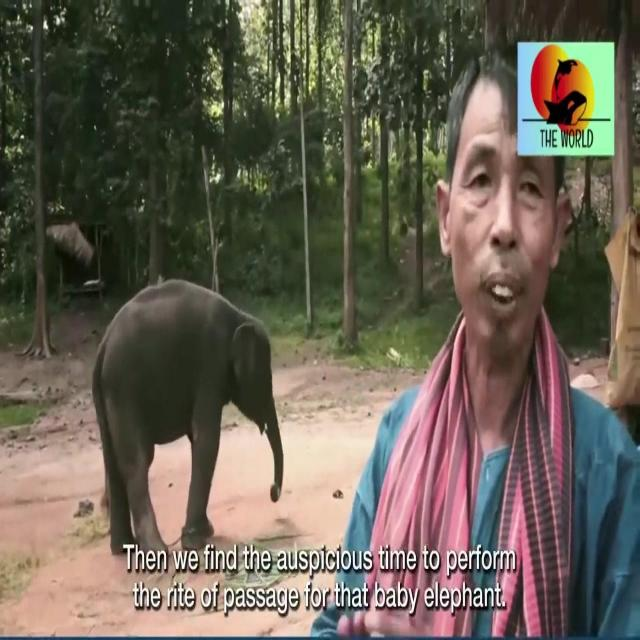Elephant: (94, 280, 280, 499)
